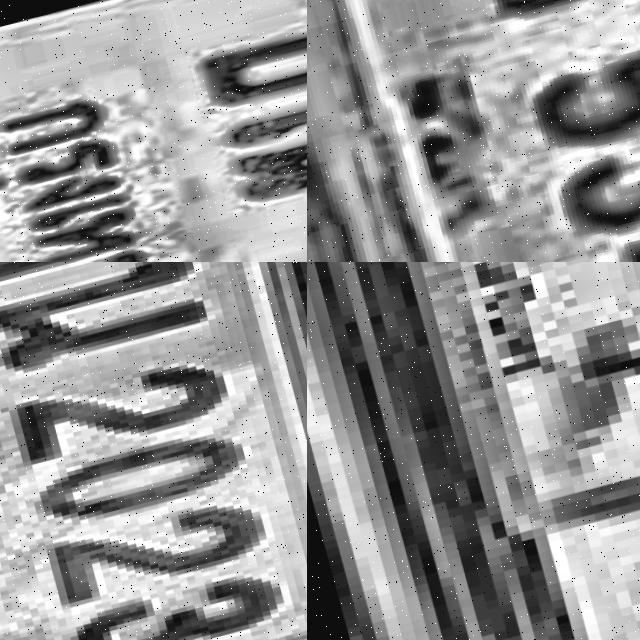license-plate: (307, 262, 640, 640), (0, 262, 307, 640), (307, 0, 640, 262), (0, 0, 307, 262)
